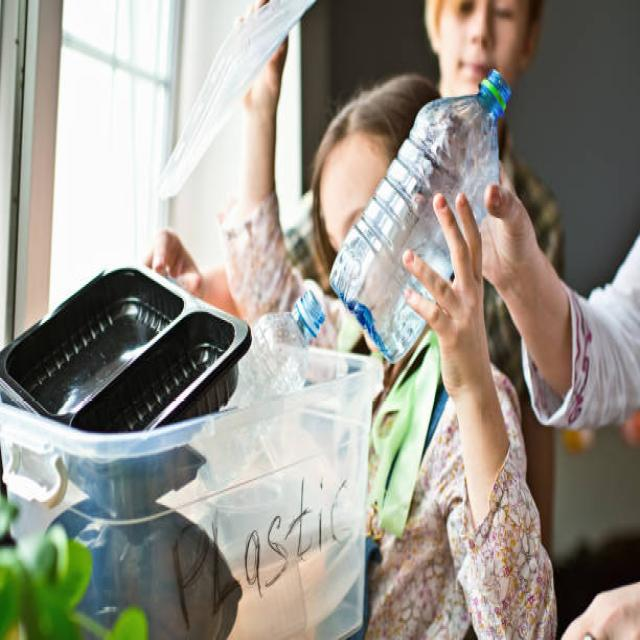plastic: (1, 238, 261, 448), (334, 69, 504, 350)
